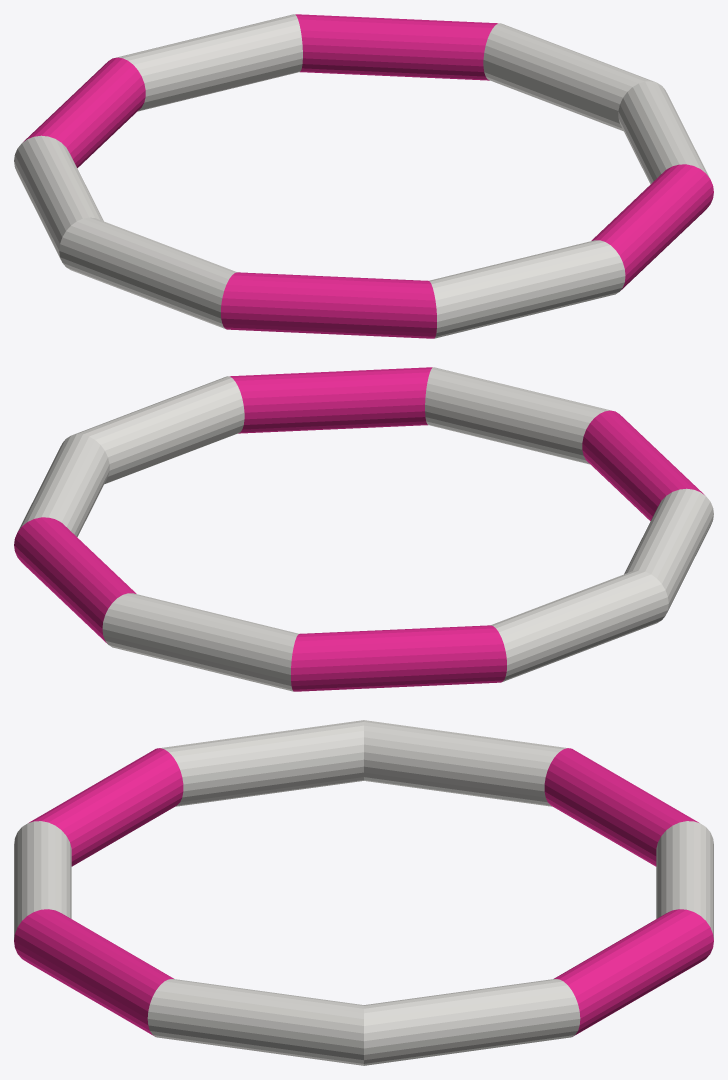
The model's file is halka.fbx.
The picture shows the model from 3 angles, top to bottom: view 1: azimuth 30°, elevation 25°; view 2: azimuth 150°, elevation 25°; view 3: azimuth 270°, elevation 25°; orthographic projection. The views are drawn at different scales.
Parts seen in each view (by area): view 1: Torus.001; view 2: Torus.001; view 3: Torus.001.
Boxes of the visible parts, x1,y1,x2,y2 form: Torus.001: (14,14,713,338); Torus.001: (14,367,713,691); Torus.001: (14,720,713,1065).
Size of the model in its own units: 410 by 33.93 by 390.
